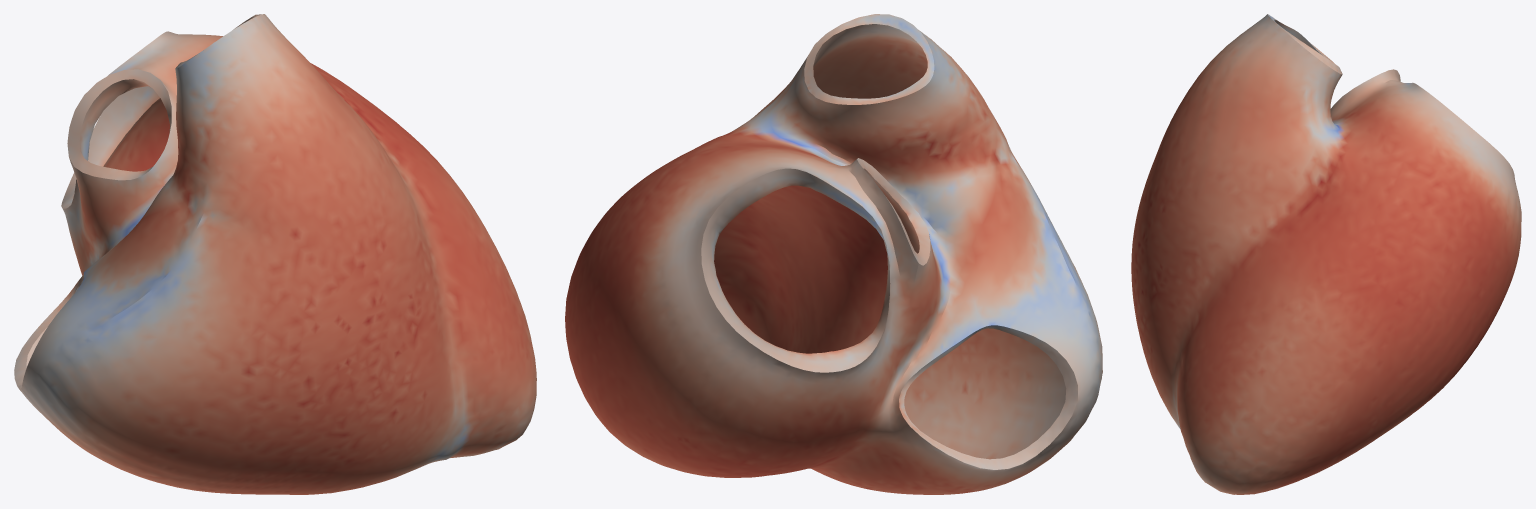
File: biven_fiber_Dynamic.glb
3 views of the same model, side by side, from view 1: azimuth 30°, elevation 25°; view 2: azimuth 150°, elevation 25°; view 3: azimuth 270°, elevation 25° (orthographic). The views are drawn at different scales.
Parts seen in each view (by area): view 1: biven_fiber; view 2: biven_fiber; view 3: biven_fiber.
Boxes of the visible parts, x1,y1,x2,y2 form: biven_fiber: (14, 14, 536, 494); biven_fiber: (565, 14, 1102, 494); biven_fiber: (1131, 14, 1521, 494).
Size of the model in its own units: 1.11 by 1.03 by 0.9452.
